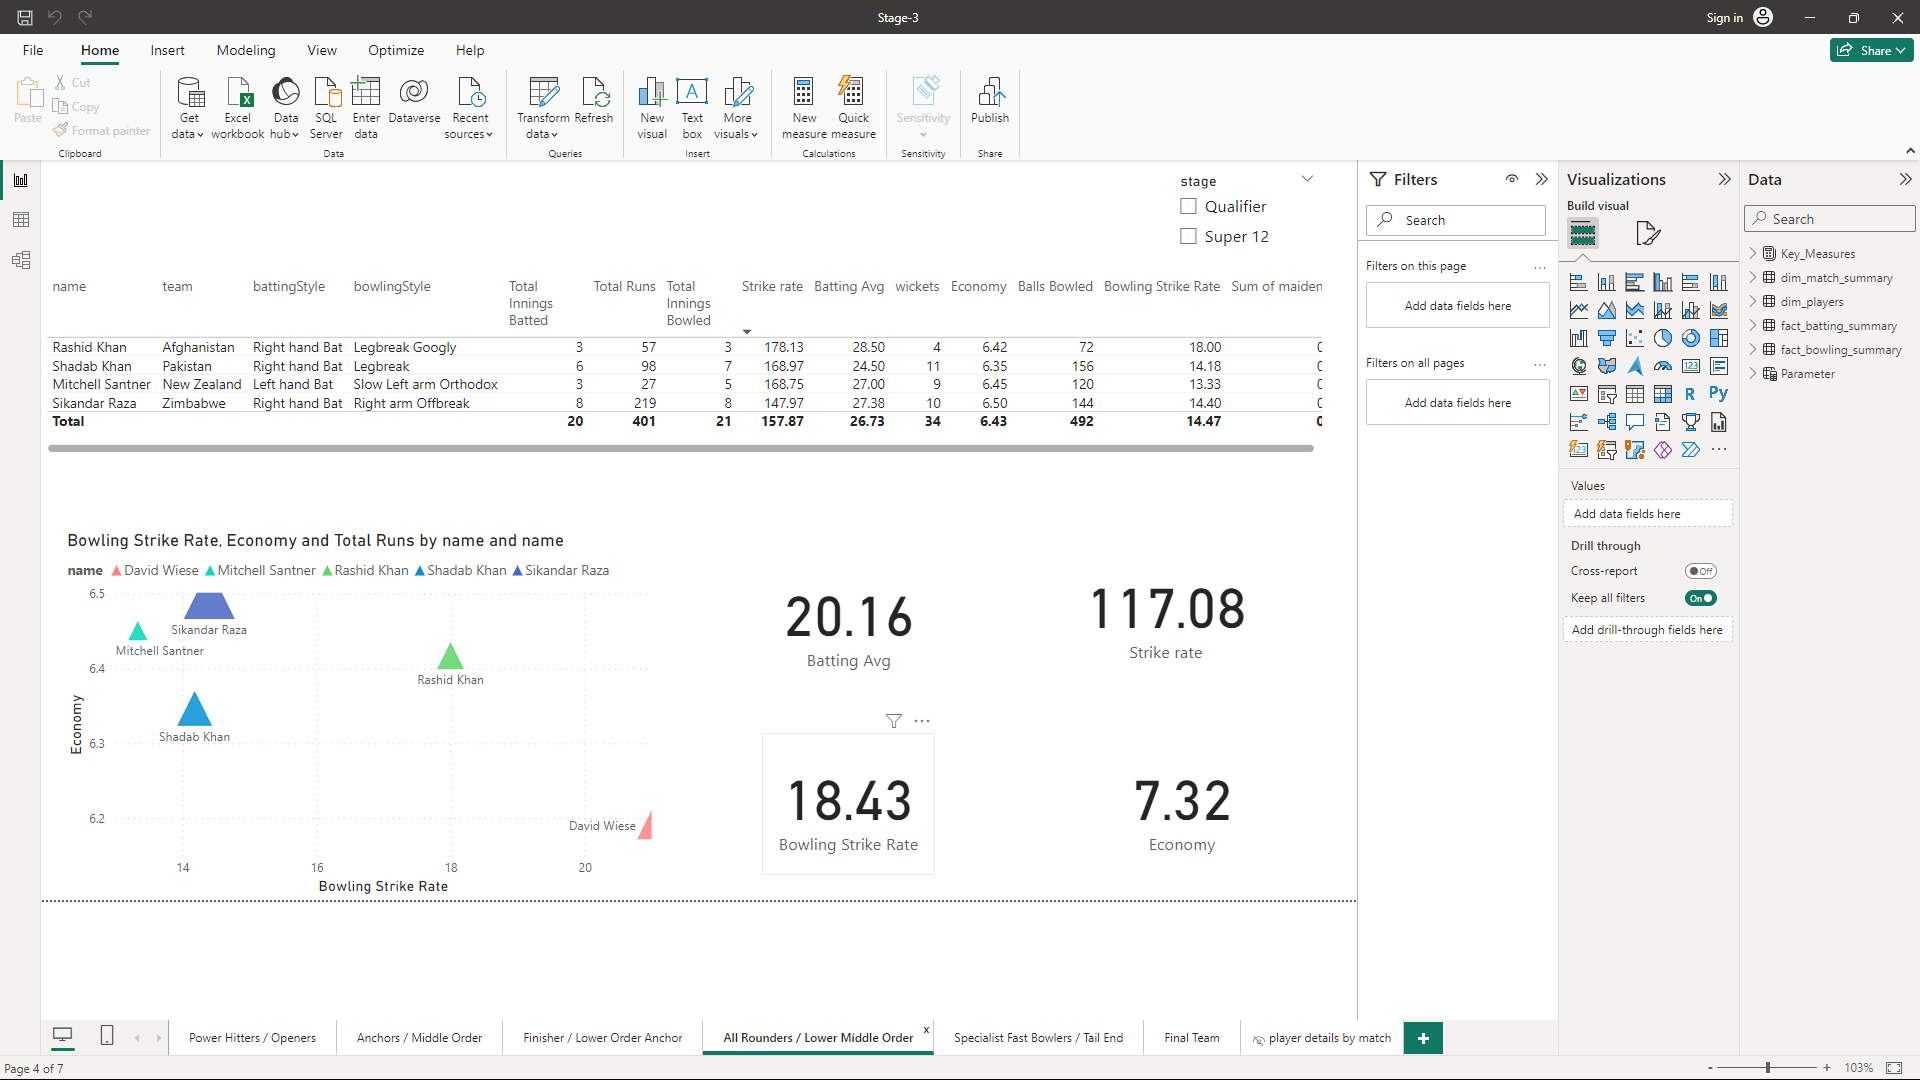

This screenshot's page, from the dashboard's own definition file:
{"tool":"powerbi","page":{"name":"New alirounders","canvas":[1280,720],"ordinal":6},"visuals":[{"type":"shape","box":[29.3,0,1220.5,66.4],"z":0},{"type":"shape","box":[29.3,104.4,355.4,38],"z":1000},{"type":"areaChart","fields":{"Y":["Key_Measures.Batting Avg"],"Category":["dim_match_summary.matchDate.Variation.Date Hierarchy.Day"]},"box":[29.3,418.3,362.3,121.6],"z":2000},{"type":"areaChart","fields":{"Category":["dim_match_summary.matchDate.Variation.Date Hierarchy.Day"],"Y":["Key_Measures.Economy"]},"box":[409.7,418.3,351.1,121.6],"z":3000},{"type":"areaChart","fields":{"Y":["Key_Measures.Strike rate"],"Category":["dim_match_summary.matchDate.Variation.Date Hierarchy.Day"]},"box":[29.3,552,362.3,120.8],"z":4000},{"type":"areaChart","fields":{"Category":["dim_match_summary.matchDate.Variation.Date Hierarchy.Day"],"Y":["Key_Measures.Bowling Strike Rate"]},"box":[409.7,552,351.1,120.8],"z":5000},{"type":"image","box":[29.3,0,88.8,86.3],"z":6000},{"type":"actionButton","box":[715,15.5,100.1,37.1],"z":7000},{"type":"actionButton","box":[831.5,15.5,100.1,37.1],"z":8000},{"type":"actionButton","box":[942.7,14.7,100.1,37.1],"z":9000},{"type":"actionButton","box":[600.3,14.7,100.1,37.1],"z":10000},{"type":"actionButton","box":[489.9,14.7,95.7,39.7],"z":11000},{"type":"actionButton","box":[377.8,14.7,100.1,39.7],"z":12000},{"type":"actionButton","box":[249.3,14.7,114.7,39.7],"z":13000},{"type":"tableEx","fields":{"Values":["dim_player.name","dim_player.team","dim_player.Batting Style","dim_player.Bowling Style","Key_Measures.Total Matches","Key_Measures.Total Runs","Key_Measures.Total Innings Bowled","Key_Measures.Strike rate","Key_Measures.Bat Avg","Key_Measures.wickets","Key_Measures.Economy","Key_Measures.Balls Bowled"]},"box":[29.3,142.3,1220.5,268.2],"z":14000},{"type":"card","fields":{"Values":["Key_Measures.Economy"]},"box":[1136.8,86.3,113,56.1],"z":15000},{"type":"card","fields":{"Values":["Key_Measures.Bowling Strike Rate"]},"box":[874.6,86.3,118.2,56.1],"z":16000},{"type":"card","fields":{"Values":["Key_Measures.Strike rate"]},"box":[1009.2,86.3,112.1,56.1],"z":17000},{"type":"card","fields":{"Values":["Key_Measures.Bat Avg"]},"box":[740.9,86.3,119.9,56.1],"z":18000},{"type":"scatterChart","fields":{"Category":["dim_player.name"],"X":["Key_Measures.Bowling Strike Rate"],"Series":["dim_player.name"],"Y":["Key_Measures.Economy"],"Size":["Key_Measures.Total Runs"]},"box":[779.7,418.3,470.1,254.4],"z":19000}]}

Visuals, with their boxes on the page's 1280x720 design canvas (x1, y1, x2, y2). These are canvas units, not pixel positions in the 1920x1080 screenshot, which may show the page scaled, cropped or inside an application window:
shape: [left=29, top=0, right=1250, bottom=66]
shape: [left=29, top=104, right=385, bottom=142]
areaChart - Key_Measures.Batting Avg x dim_match_summary.matchDate.Variation.Date Hierarchy.Day: [left=29, top=418, right=392, bottom=540]
areaChart - dim_match_summary.matchDate.Variation.Date Hierarchy.Day x Key_Measures.Economy: [left=410, top=418, right=761, bottom=540]
areaChart - Key_Measures.Strike rate x dim_match_summary.matchDate.Variation.Date Hierarchy.Day: [left=29, top=552, right=392, bottom=673]
areaChart - dim_match_summary.matchDate.Variation.Date Hierarchy.Day x Key_Measures.Bowling Strike Rate: [left=410, top=552, right=761, bottom=673]
image: [left=29, top=0, right=118, bottom=86]
actionButton: [left=715, top=16, right=815, bottom=53]
actionButton: [left=832, top=16, right=932, bottom=53]
actionButton: [left=943, top=15, right=1043, bottom=52]
actionButton: [left=600, top=15, right=700, bottom=52]
actionButton: [left=490, top=15, right=586, bottom=54]
actionButton: [left=378, top=15, right=478, bottom=54]
actionButton: [left=249, top=15, right=364, bottom=54]
tableEx - dim_player.name x dim_player.team: [left=29, top=142, right=1250, bottom=410]
card - Key_Measures.Economy: [left=1137, top=86, right=1250, bottom=142]
card - Key_Measures.Bowling Strike Rate: [left=875, top=86, right=993, bottom=142]
card - Key_Measures.Strike rate: [left=1009, top=86, right=1121, bottom=142]
card - Key_Measures.Bat Avg: [left=741, top=86, right=861, bottom=142]
scatterChart - dim_player.name x Key_Measures.Bowling Strike Rate: [left=780, top=418, right=1250, bottom=673]
